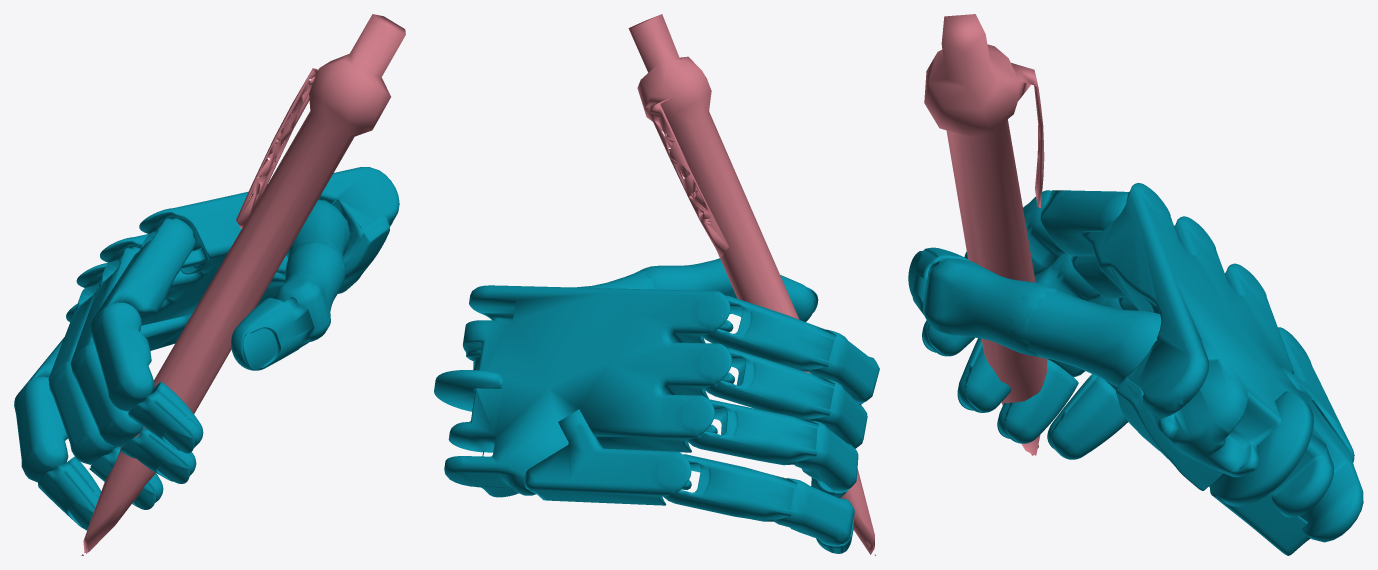
The picture shows the model from 3 angles, left to right: view 1: azimuth 30°, elevation 25°; view 2: azimuth 150°, elevation 25°; view 3: azimuth 270°, elevation 25°; orthographic projection. The views are drawn at different scales.
Parts seen in each view (by area): view 1: world; view 2: world; view 3: world.
Part boxes in pixels (<box>): world: <box>14,14,405,555</box>; world: <box>434,14,879,555</box>; world: <box>908,14,1363,555</box>.
Size of the model in its own units: 0.1648 by 0.2 by 0.138.
